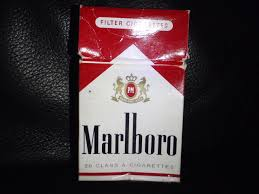marlboro: (80, 7, 180, 183)
